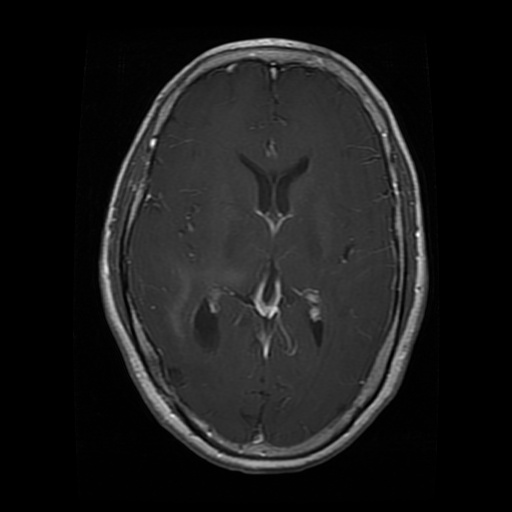glioma: (168, 263, 240, 352)
